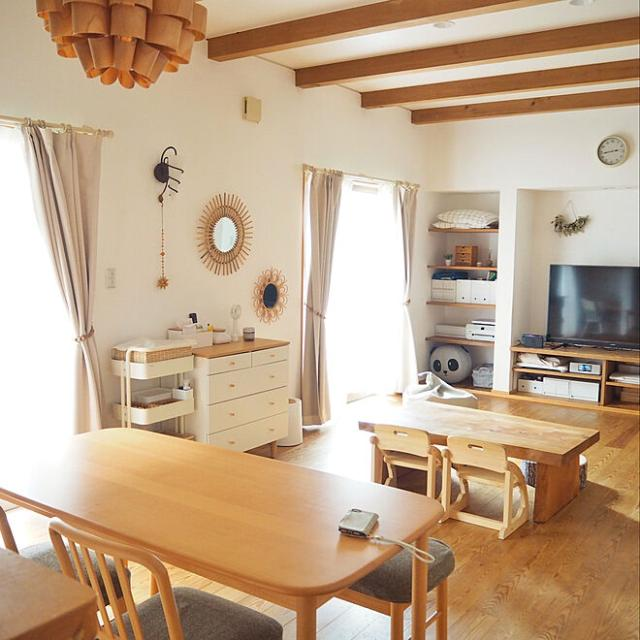natural chair: (46, 514, 289, 640), (438, 433, 532, 535)
natural desk: (3, 426, 443, 640), (360, 398, 606, 530)
natural shelf: (171, 336, 294, 444), (507, 338, 640, 412)
